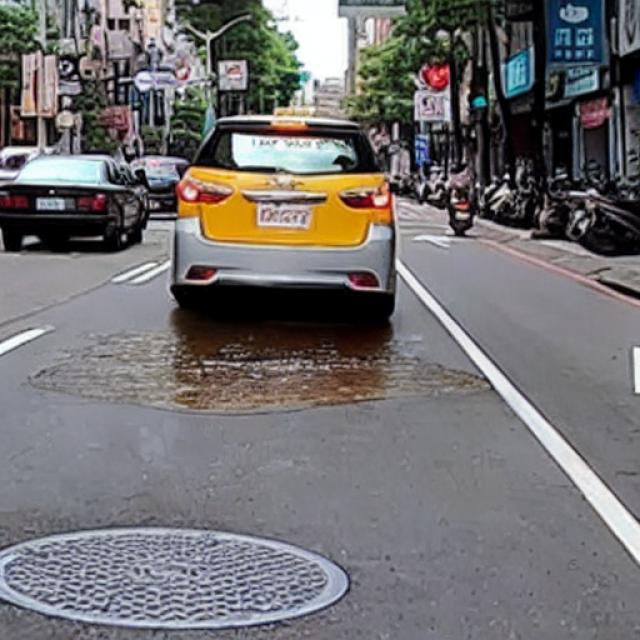puddle: (33, 316, 495, 415)
